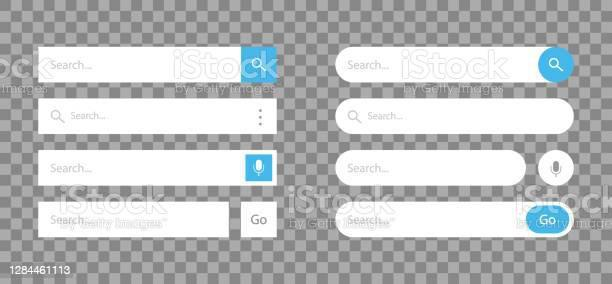button: (242, 203, 278, 238)
icon: (244, 49, 278, 83), (346, 107, 367, 129), (547, 160, 567, 181), (50, 107, 70, 127), (548, 58, 568, 77), (251, 57, 270, 76), (253, 159, 268, 178), (257, 106, 267, 130)
input: (336, 47, 575, 84), (337, 202, 576, 239), (337, 99, 576, 135), (39, 151, 278, 187), (40, 100, 279, 135), (39, 47, 243, 83), (335, 151, 528, 187), (39, 202, 230, 238)
